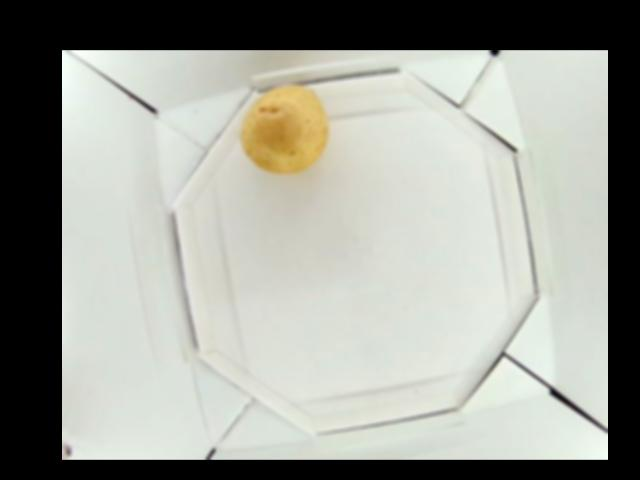Potato: (240, 86, 326, 176)
